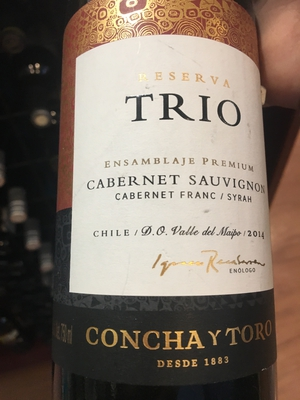trio cabernet sauvignon: (54, 2, 278, 400)
